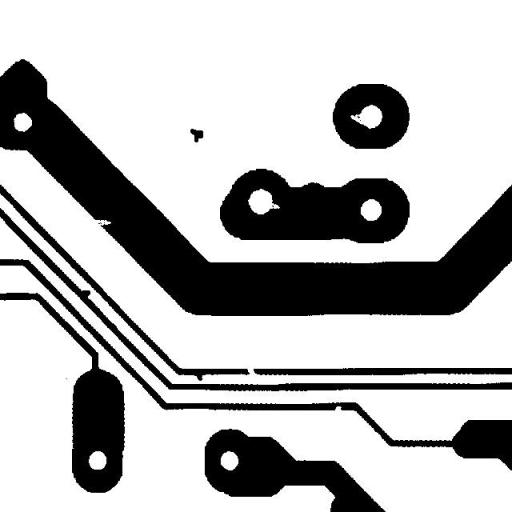copper: (182, 120, 210, 150)
mousebite: (342, 106, 373, 133), (85, 211, 118, 234), (259, 194, 287, 217), (327, 398, 349, 418)
open: (237, 353, 265, 385)
spur: (186, 363, 210, 388), (74, 282, 98, 305)
